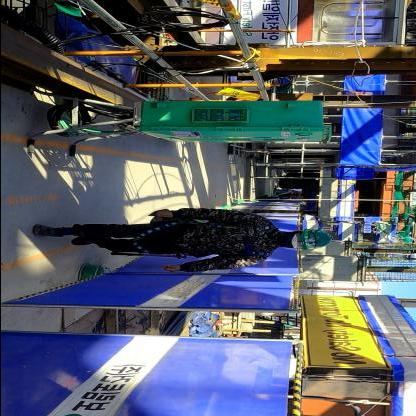Helmet: (295, 224, 331, 254)
safety-shoe: (24, 221, 68, 237)
